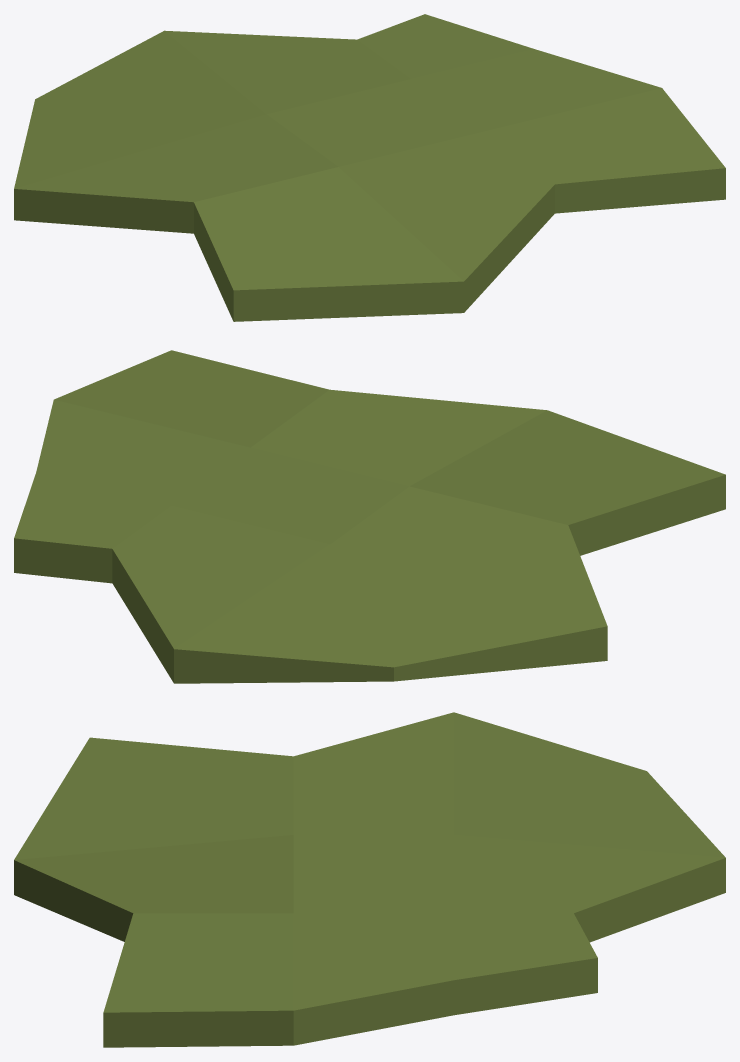
File: Gras1.fbx
3 renders of one model, top to bottom at view 1: azimuth 30°, elevation 25°; view 2: azimuth 150°, elevation 25°; view 3: azimuth 270°, elevation 25°, orthographic. The views are drawn at different scales.
Visible parts, largest first — view 1: Gras1; view 2: Gras1; view 3: Gras1.
Boxes of the visible parts, bbox=[...] form: Gras1: bbox=[14, 14, 725, 321]; Gras1: bbox=[14, 350, 725, 683]; Gras1: bbox=[14, 712, 725, 1047].
Size of the model in its own units: 142 by 12.78 by 137.
